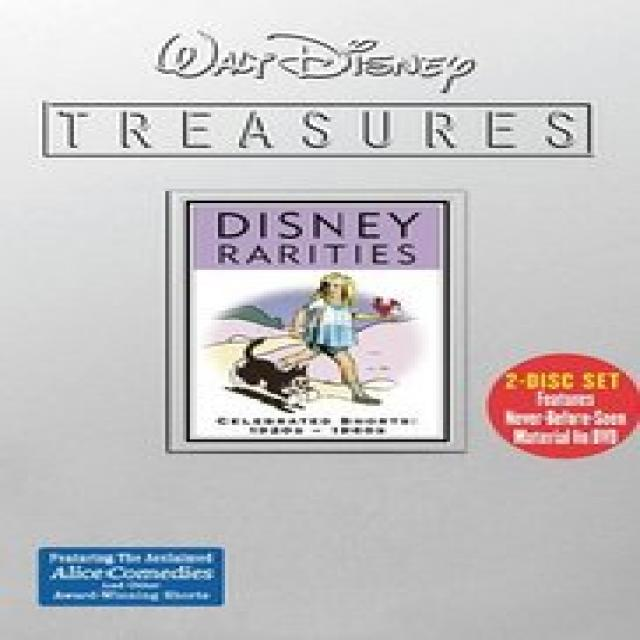movie-judul: (27, 33, 634, 184), (194, 197, 435, 273)
picture: (203, 274, 433, 430)
